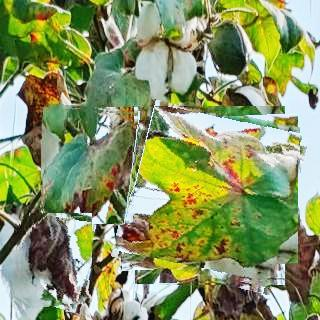blight: (120, 106, 300, 287), (41, 105, 138, 224), (14, 213, 92, 309)
